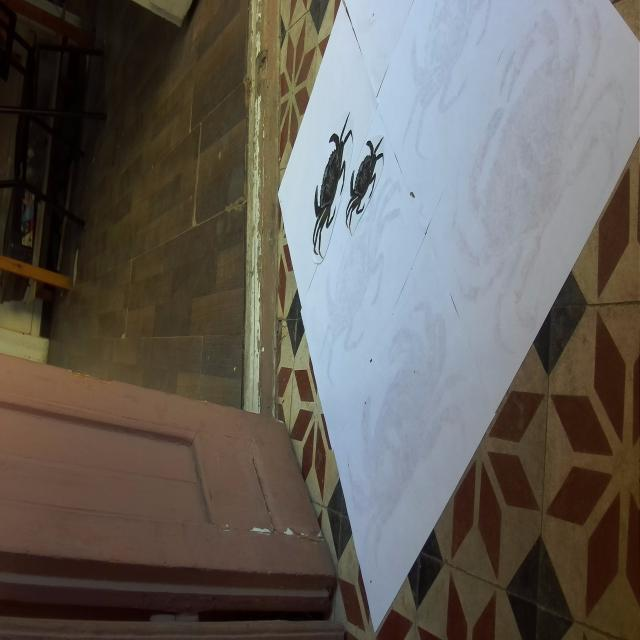European_Green_Crab: (300, 105, 361, 263), (335, 121, 391, 240)
